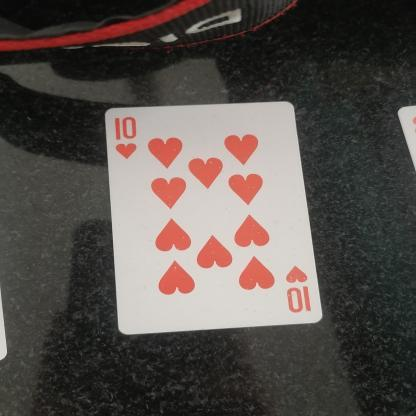10H: (274, 257, 322, 320), (97, 109, 156, 157)
